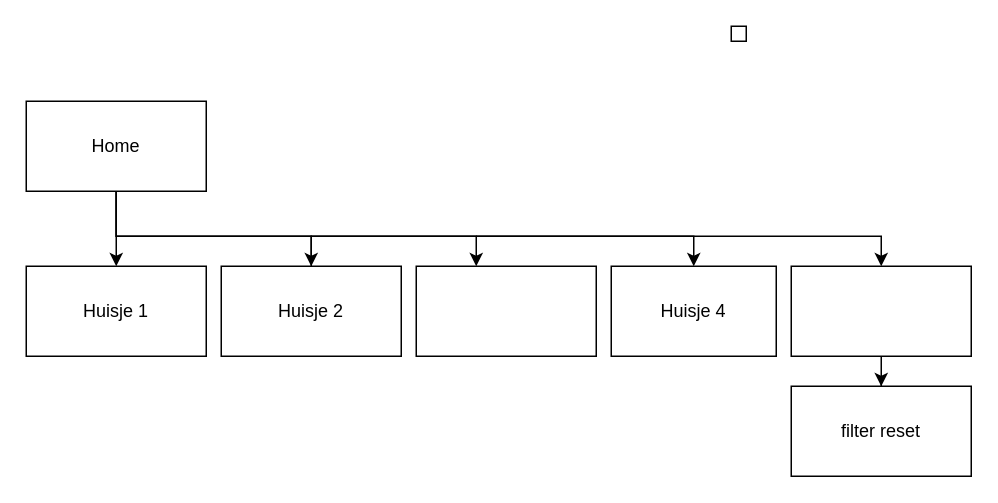
This 998x503 diagram has some shape labels left out. The centre of each missing label's shape, as x and y in pixels:
filter: point (880, 310)
Huisje 3: point (505, 310)
